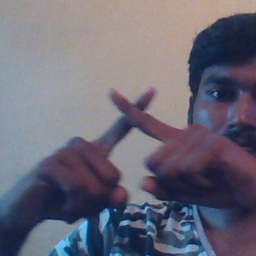X: (60, 72, 194, 204)
